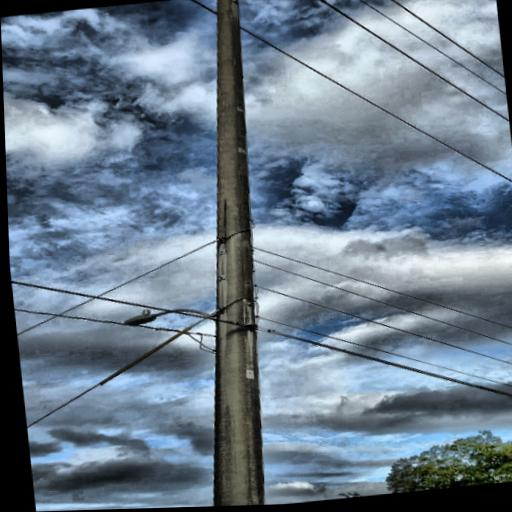pole: (118, 0, 304, 509)
